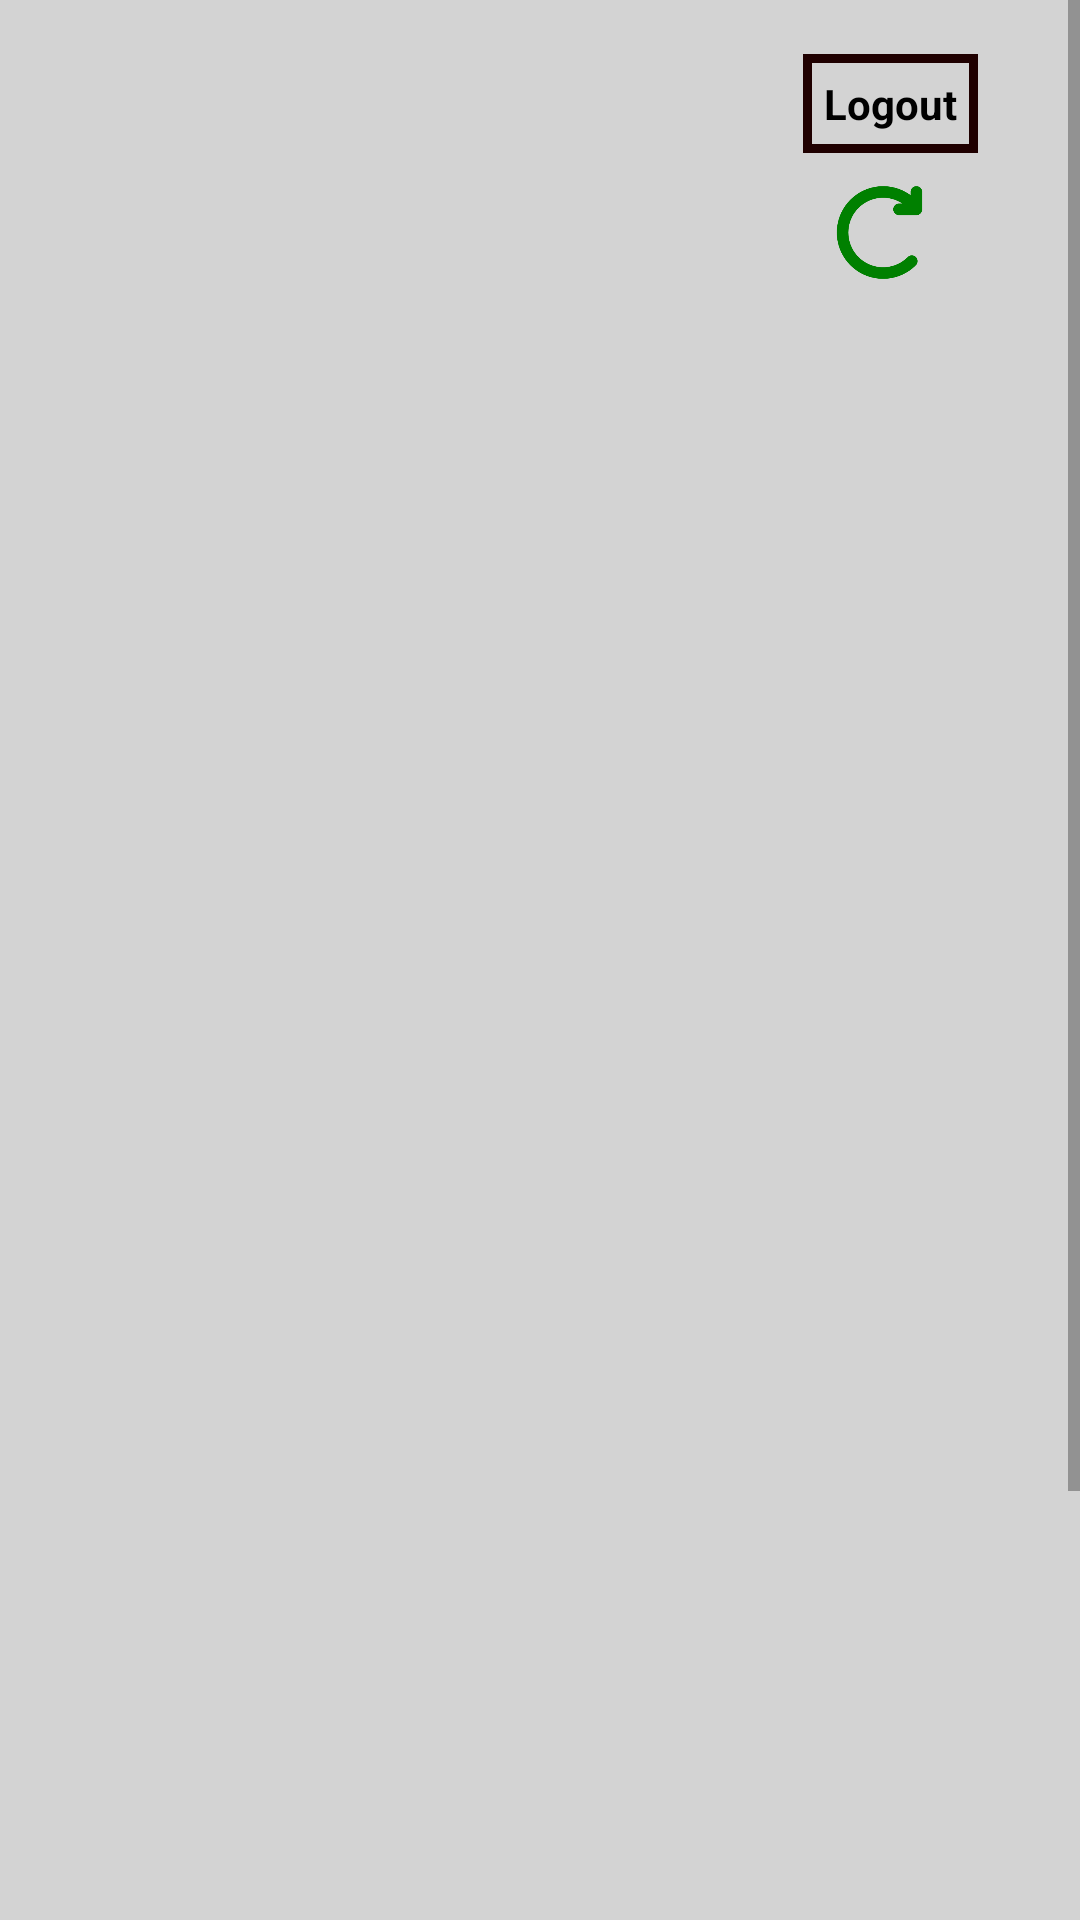

Where icons sit on this 1080*1920 app screen, as [x1,y1,x2,y2]:
refresh: [837,186,922,279]
